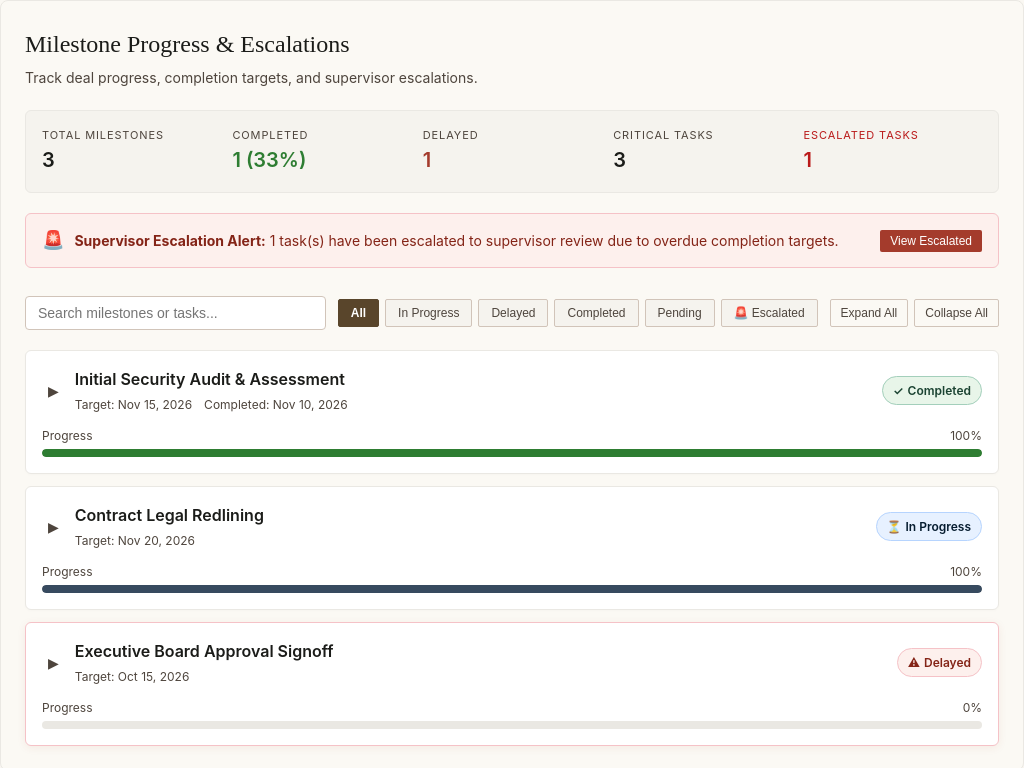
MilestoneTracker Component › Filtering and Interaction Controls › filters milestones by search query
This screenshot has width=1024, height=768.
Type "Security Audit" into the field with test id "milestone-search-input" at point(175, 313), box x1=25 y1=296 x2=326 y2=330
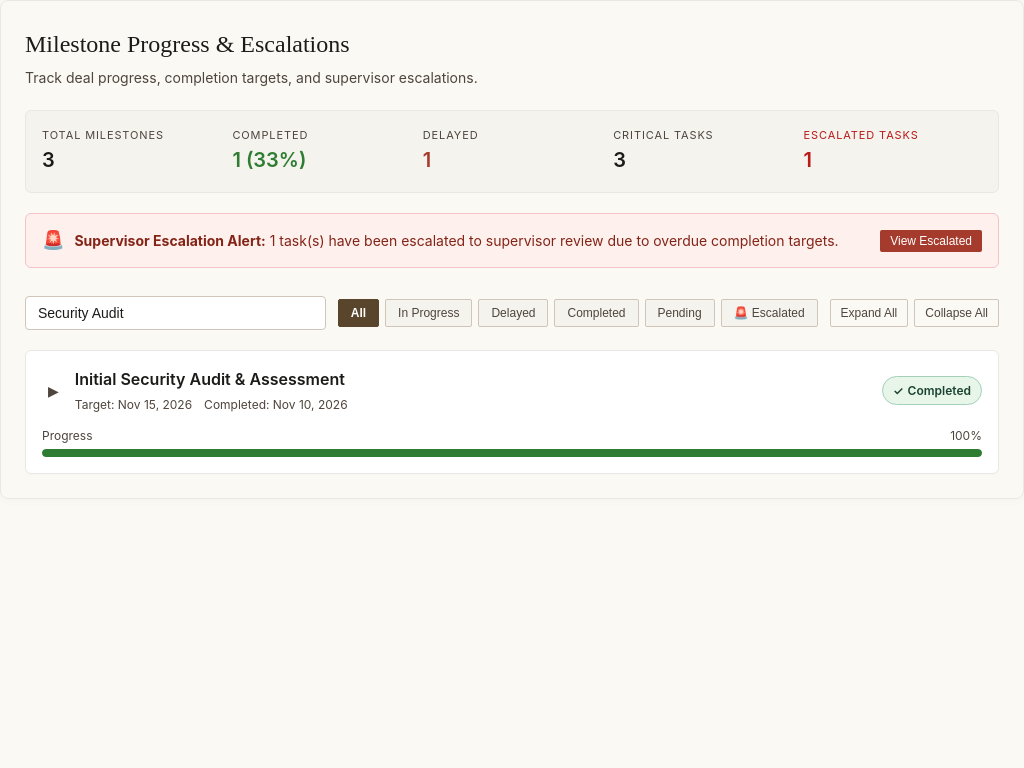
Expected: the element with test id "milestone-item-ms-1" is shown, x1=25 y1=350 x2=999 y2=474
Expected: the element with test id "milestone-item-ms-2" is gone
Expected: the element with test id "milestone-item-ms-3" is gone
